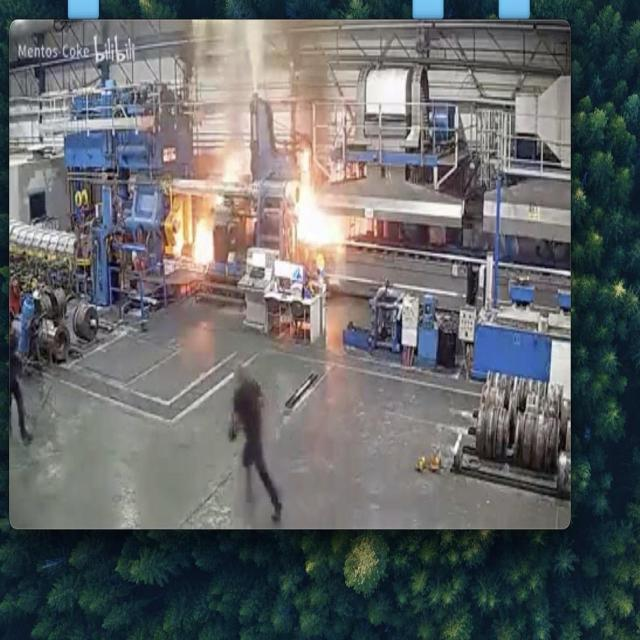smoke: (290, 115, 346, 262), (190, 213, 217, 269)
